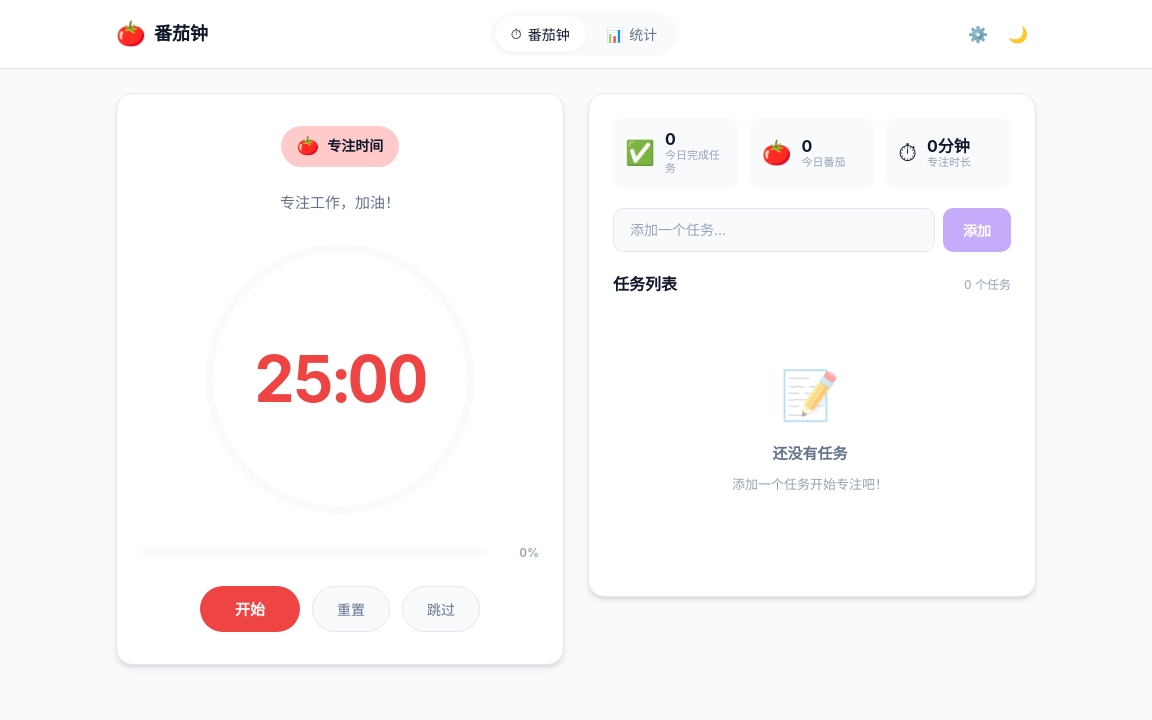
Test: App task management flow › toggles task completion
Type "切换任务" into the field with placeholder "添加一个任务..." at (774, 230), box [613,208,935,252]
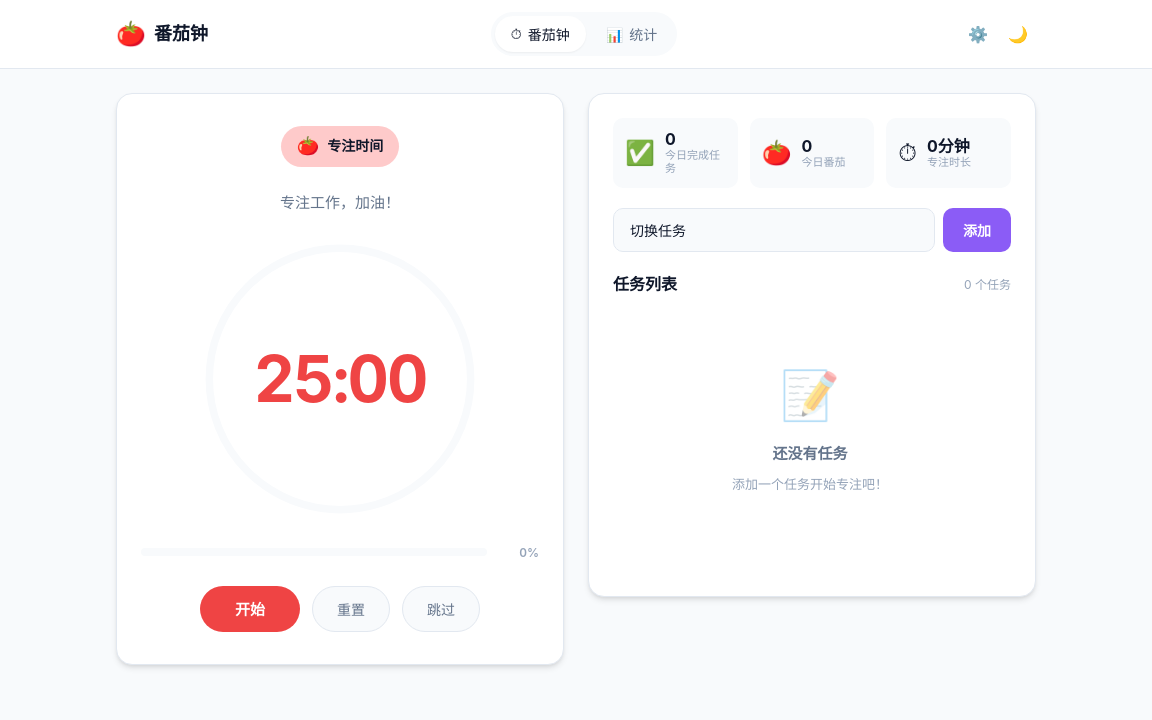
Submit the form with placeholder "添加一个任务...", box [613,208,1011,252]
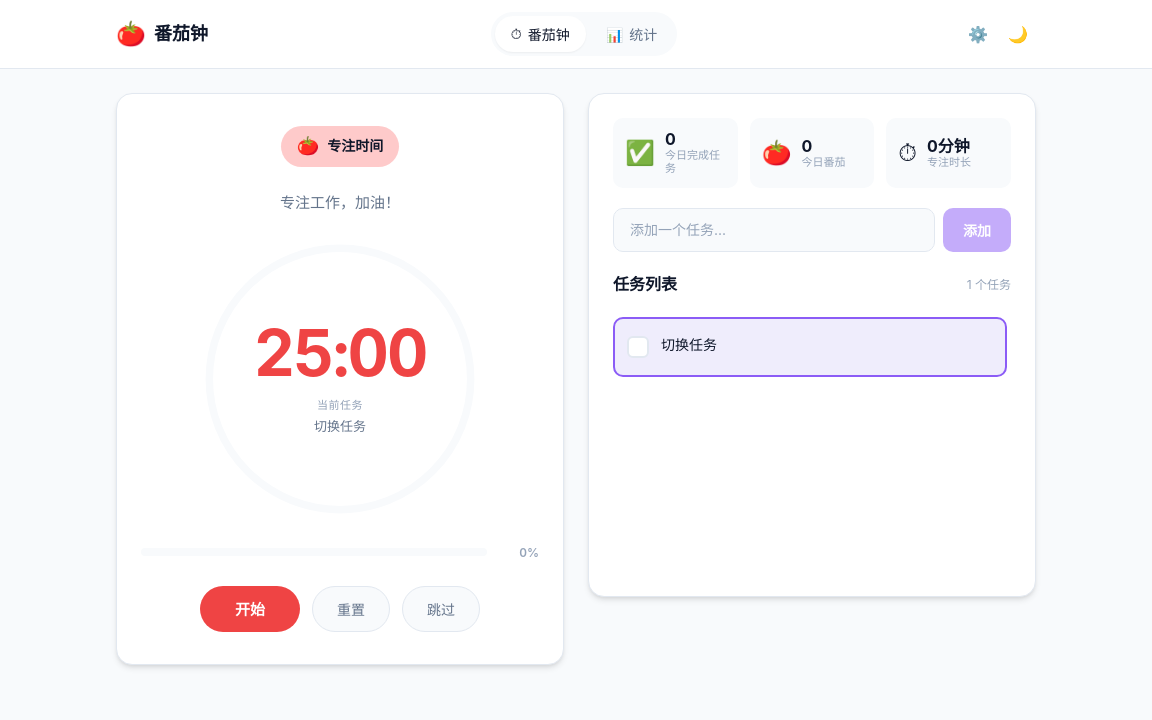
Click the button named "标记为完成" at (638, 347), box [627,336,649,358]
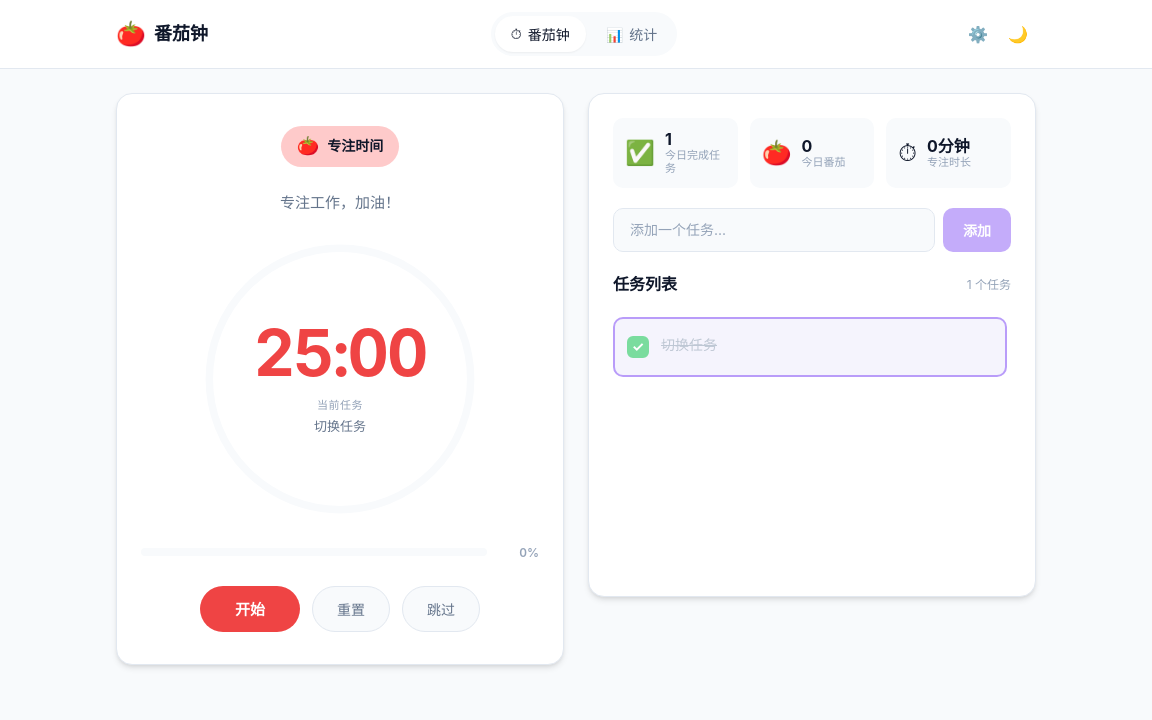
Expected: the text "✓" is shown, [632,340,644,354]
Expected: the button named "标记为未完成" is shown, [627,336,649,358]
